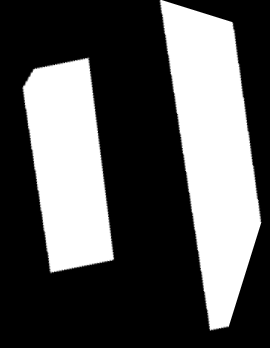parkingspot: (160, 0, 261, 331), (23, 58, 114, 273)
